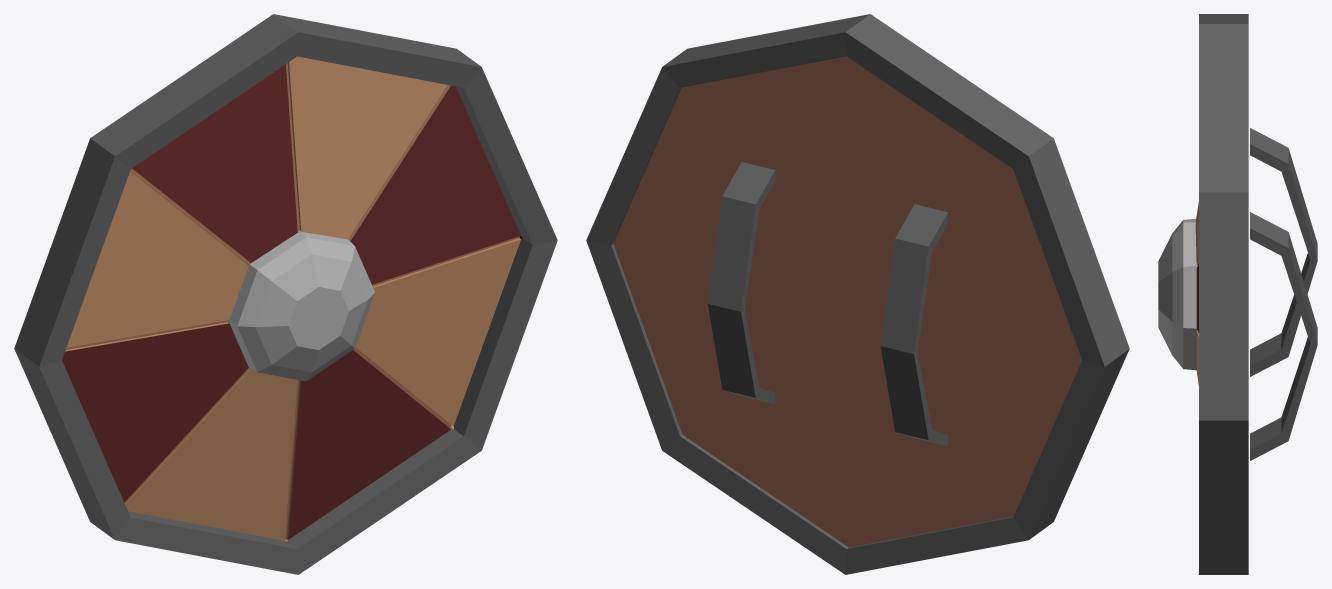
Rendered from Round shield.fbx.
3 renders of one model, left to right at view 1: azimuth 30°, elevation 25°; view 2: azimuth 150°, elevation 25°; view 3: azimuth 270°, elevation 25°, orthographic.
Parts seen in each view (by area): view 1: Wooden Shield; view 2: Wooden Shield; view 3: Wooden Shield.
Boxes of the visible parts, left/top/right/bottom form: Wooden Shield: left=14, top=14, right=557, bottom=574; Wooden Shield: left=586, top=14, right=1129, bottom=574; Wooden Shield: left=1158, top=14, right=1317, bottom=574.
Size of the model in its own units: 120 by 120 by 32.09.
